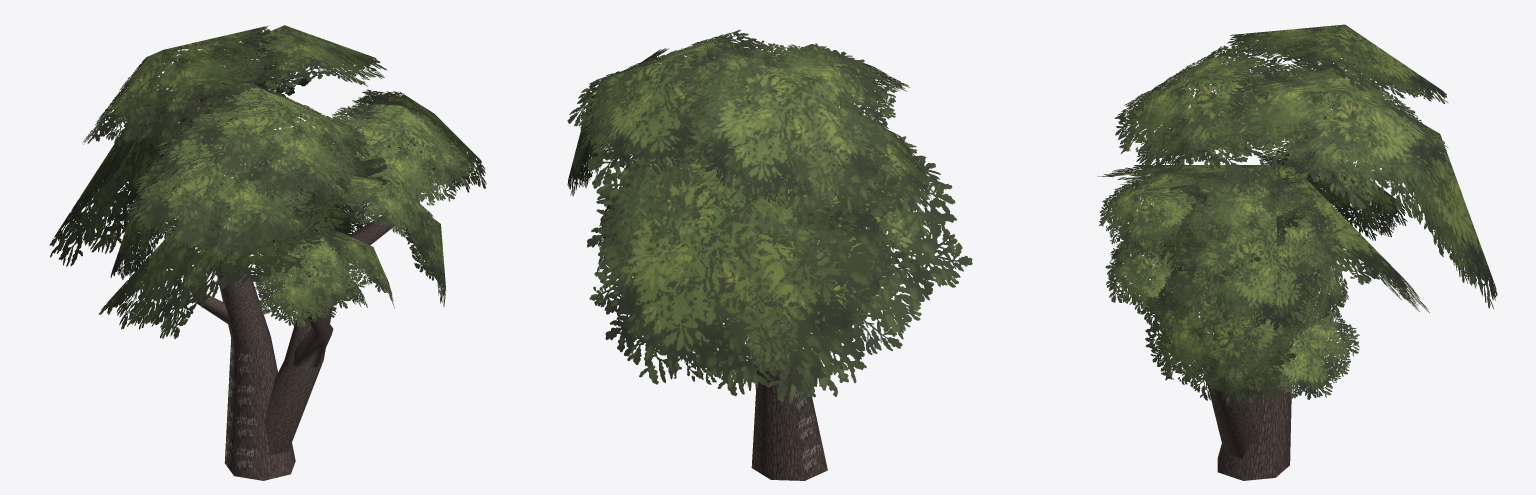
File: Oak_tree_tally_marks01.fbx
The picture shows the model from 3 angles, left to right: view 1: azimuth 30°, elevation 25°; view 2: azimuth 150°, elevation 25°; view 3: azimuth 270°, elevation 25°; orthographic projection. The views are drawn at different scales.
Visible parts, largest first — view 1: Oak_tree_tally_marks01; view 2: Oak_tree_tally_marks01; view 3: Oak_tree_tally_marks01.
Part boxes in pixels (x1=…): Oak_tree_tally_marks01: x1=49, y1=25, x2=486, y2=480; Oak_tree_tally_marks01: x1=567, y1=30, x2=972, y2=480; Oak_tree_tally_marks01: x1=1097, y1=24, x2=1497, y2=480.
Size of the model in its own units: 11.17 by 11.41 by 11.27.
3 materials, 3 textured.
